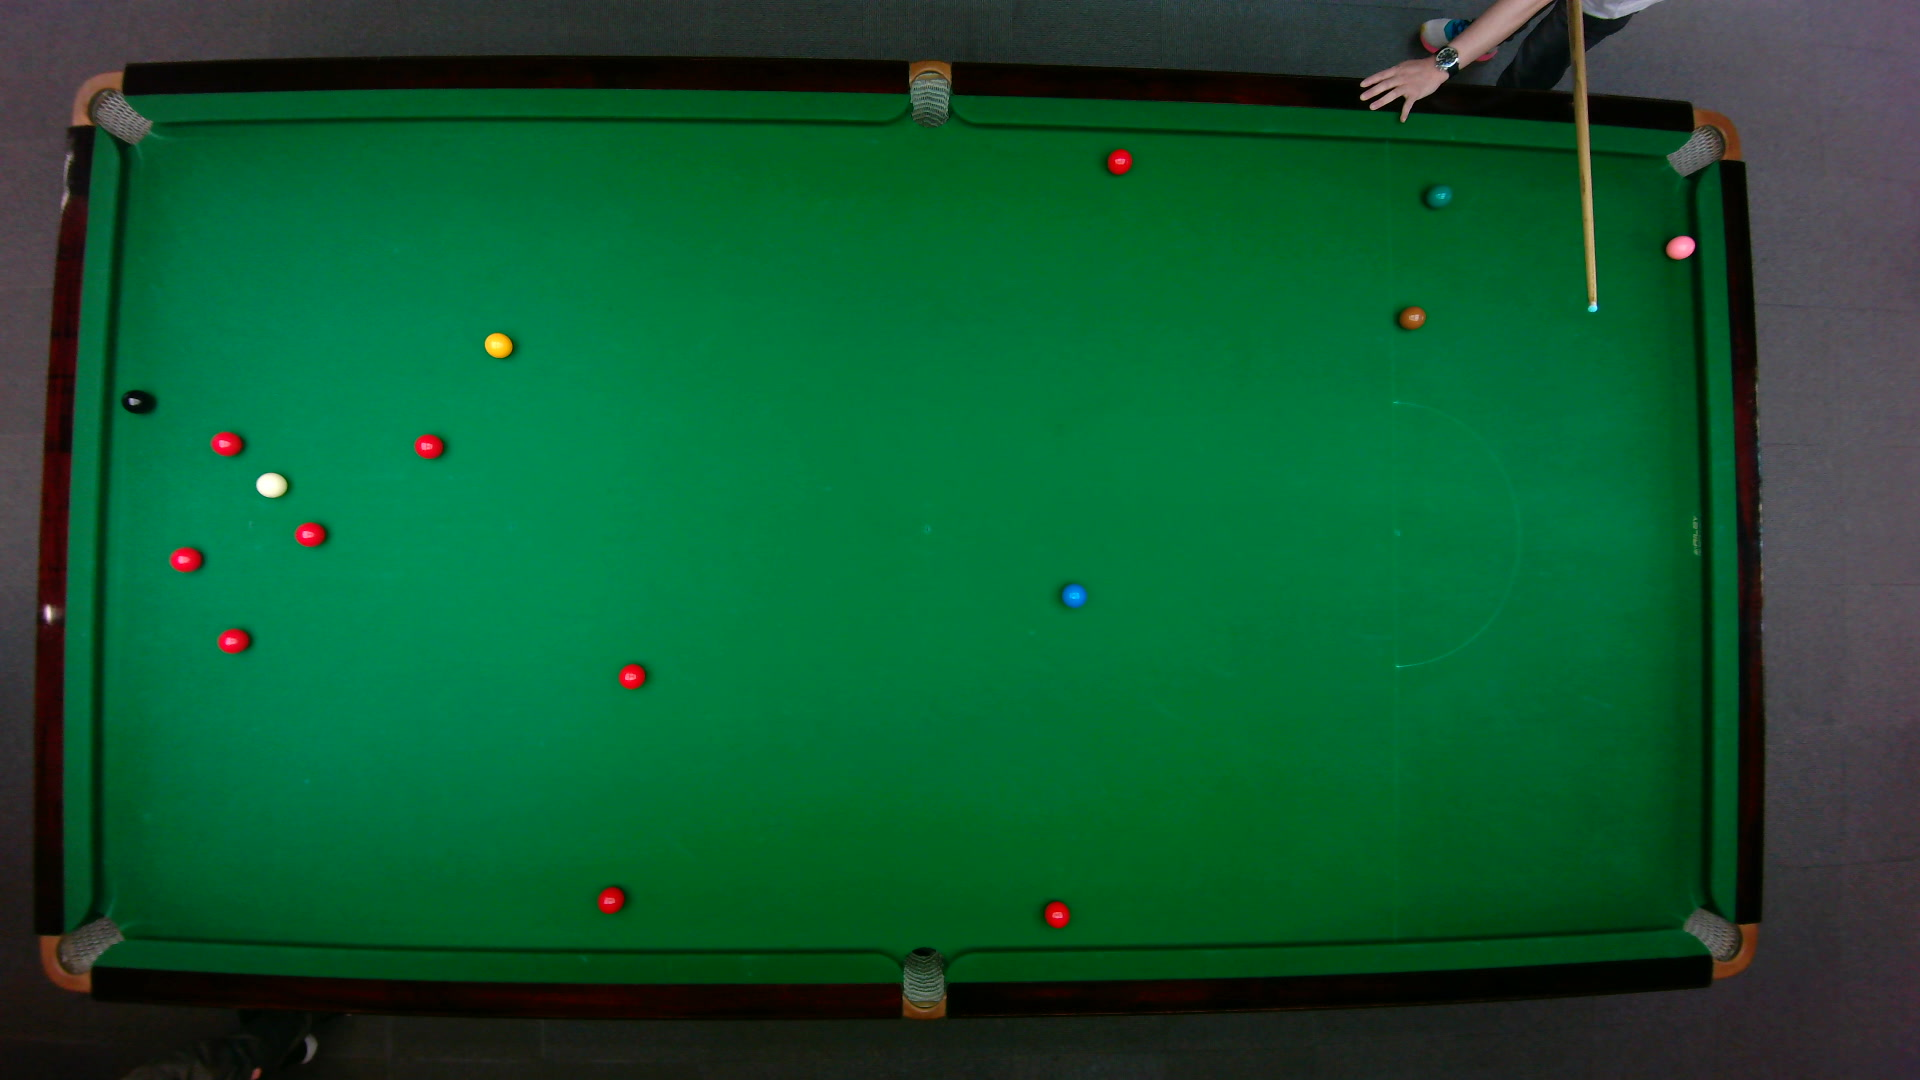bag: (38, 913, 125, 993), (69, 69, 152, 145), (1680, 905, 1756, 978), (1663, 107, 1742, 177), (899, 944, 944, 1021), (909, 58, 949, 128)
black: (119, 388, 153, 414)
blue: (1059, 582, 1087, 608)
brown: (1396, 305, 1428, 330)
cue: (1575, 1, 1604, 316)
green: (1423, 182, 1453, 208)
pink: (1663, 233, 1697, 260)
red: (166, 545, 203, 572), (208, 429, 243, 458), (215, 625, 251, 653), (291, 520, 327, 547), (595, 884, 625, 914), (616, 661, 646, 690), (411, 433, 444, 459), (1104, 146, 1133, 175), (1043, 899, 1071, 928)
white: (253, 469, 289, 498)
yellow: (483, 328, 513, 357)
zone: (1390, 400, 1520, 669)
